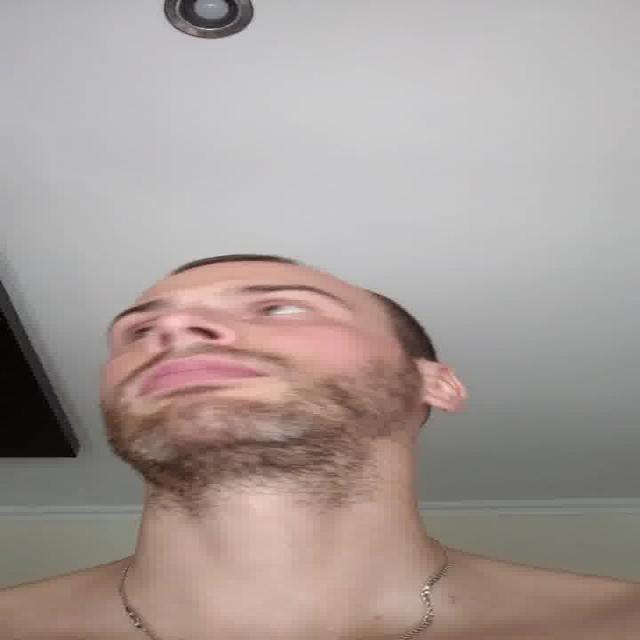earlobe: (426, 365, 468, 411)
